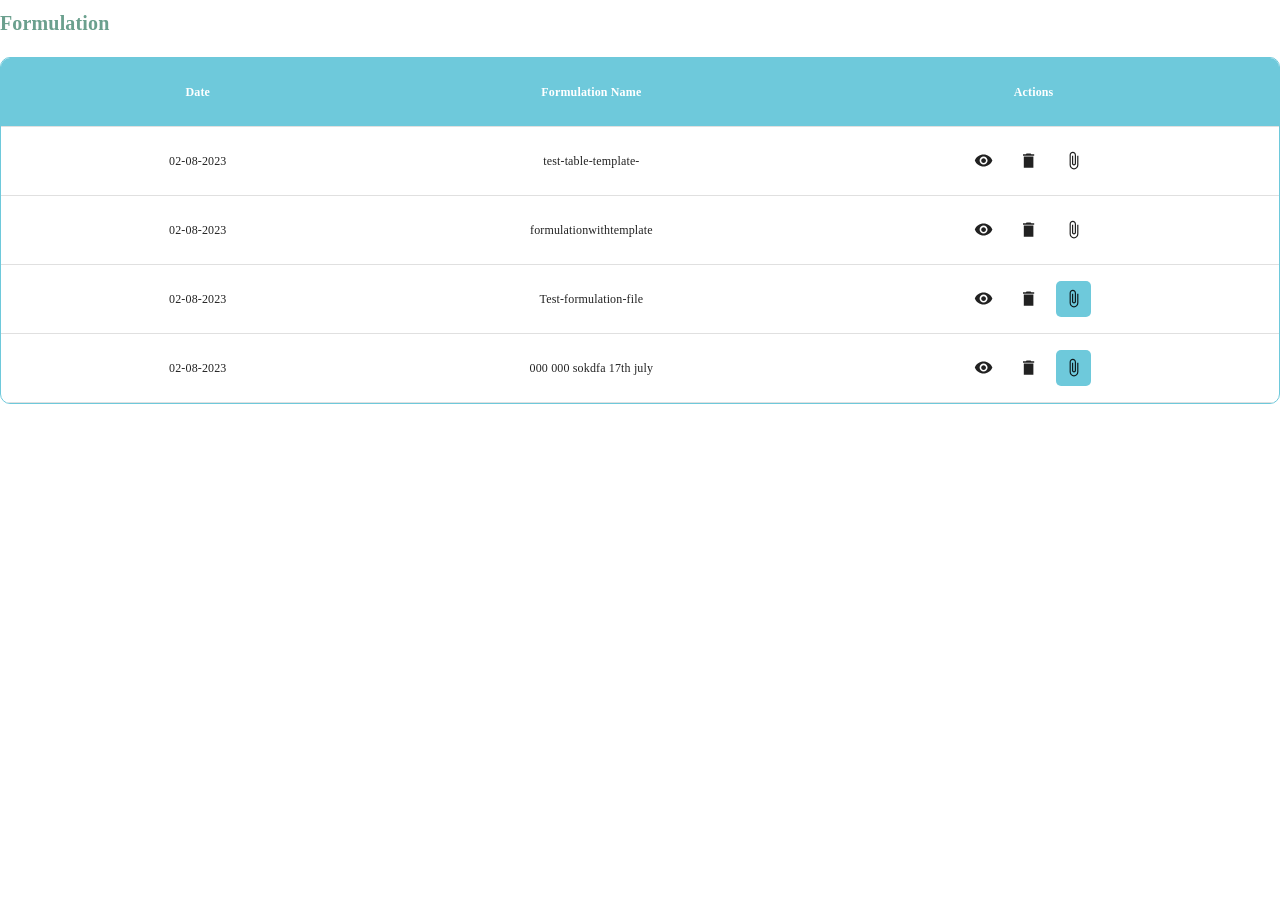
Test: Formulation list page › Delete Formulation From list
Click the button with test id "iconButton_delete_c7349895-c90c-4188-a35c-1b2b22673ed6". click: (1029, 161)
box: [1011, 143, 1046, 179]
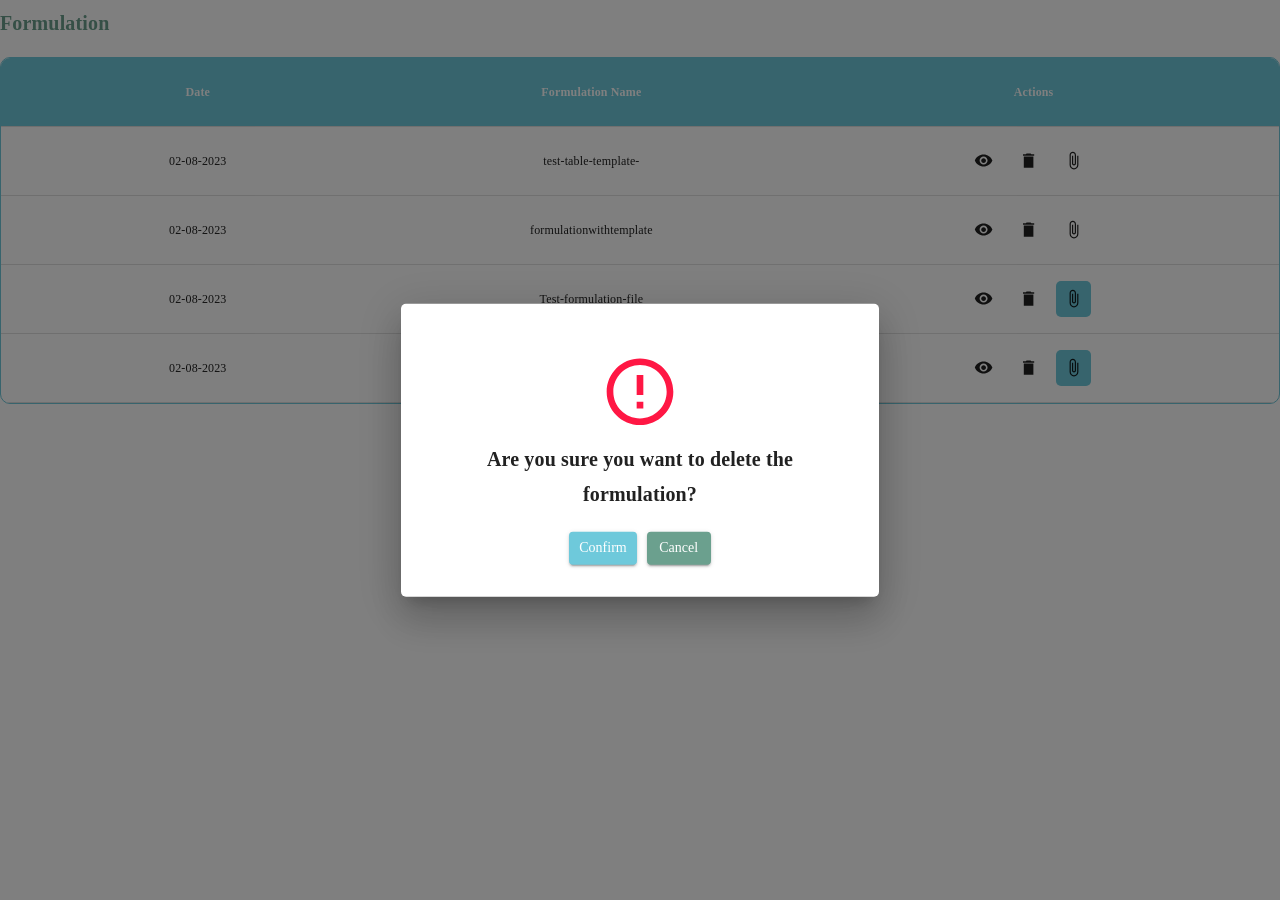
expect the heading "Are you sure you want to delete the formulation?" is shown: met, box [487, 448, 793, 505]
Click the button with test id "confirmButton". click: (603, 548)
box: [569, 532, 637, 564]
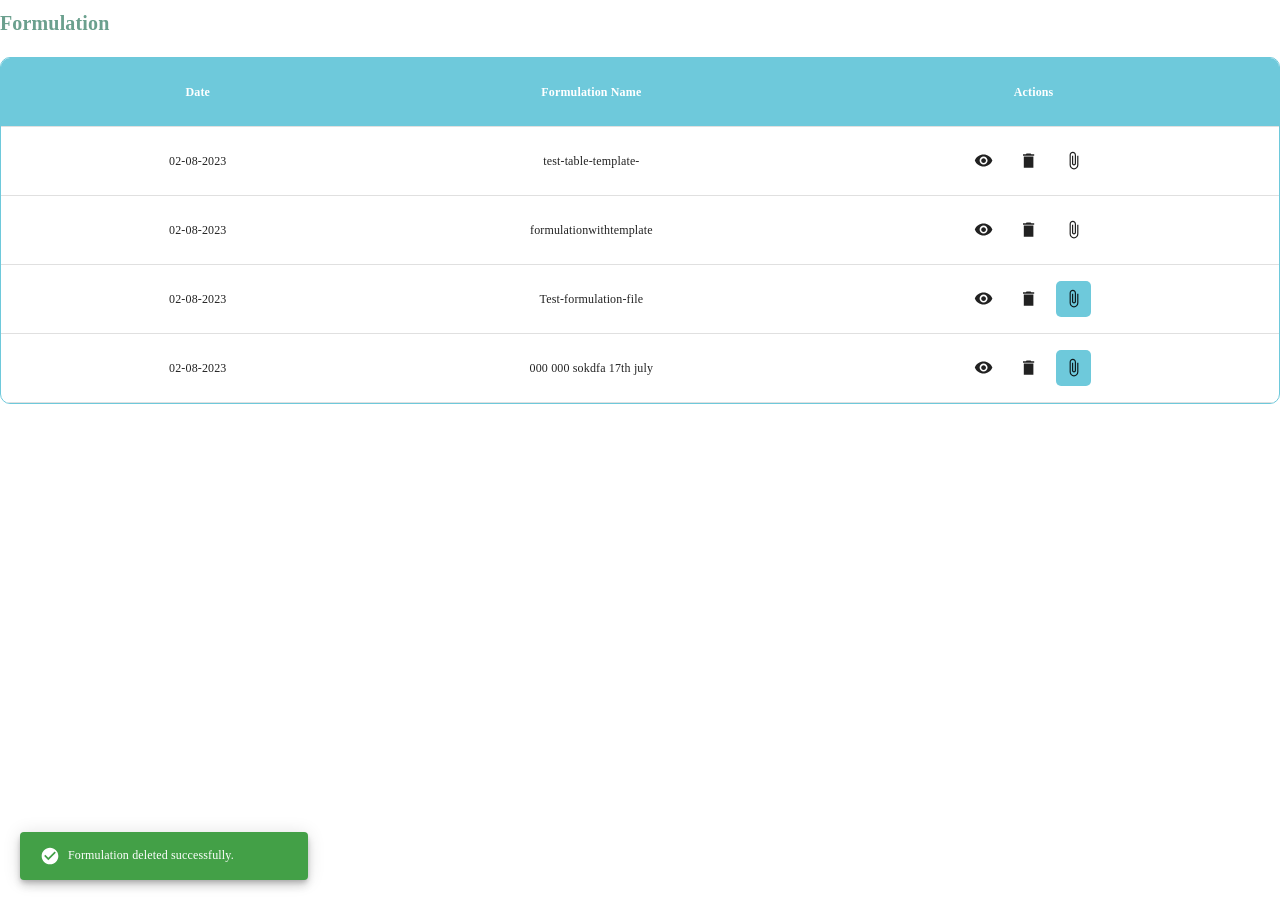
expect the text "Formulation deleted successfully." is shown: met, box [40, 846, 234, 866]
